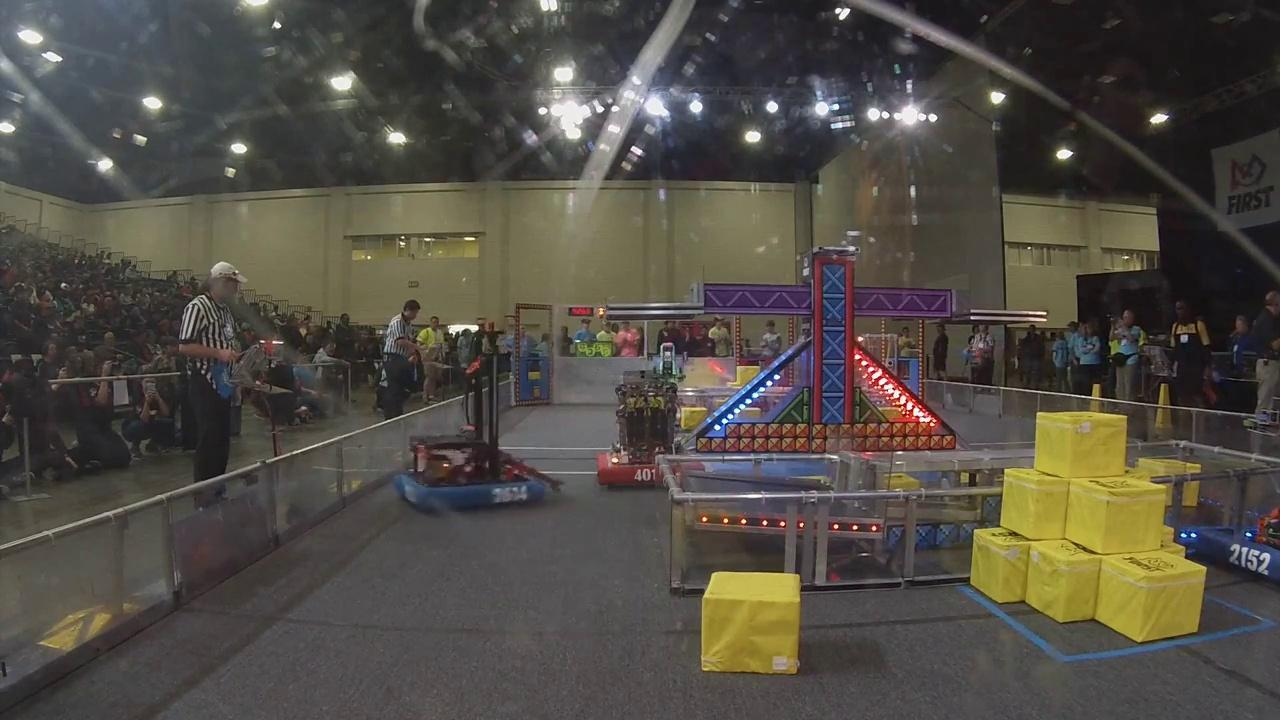robot: (390, 323, 557, 515), (593, 378, 708, 491)
